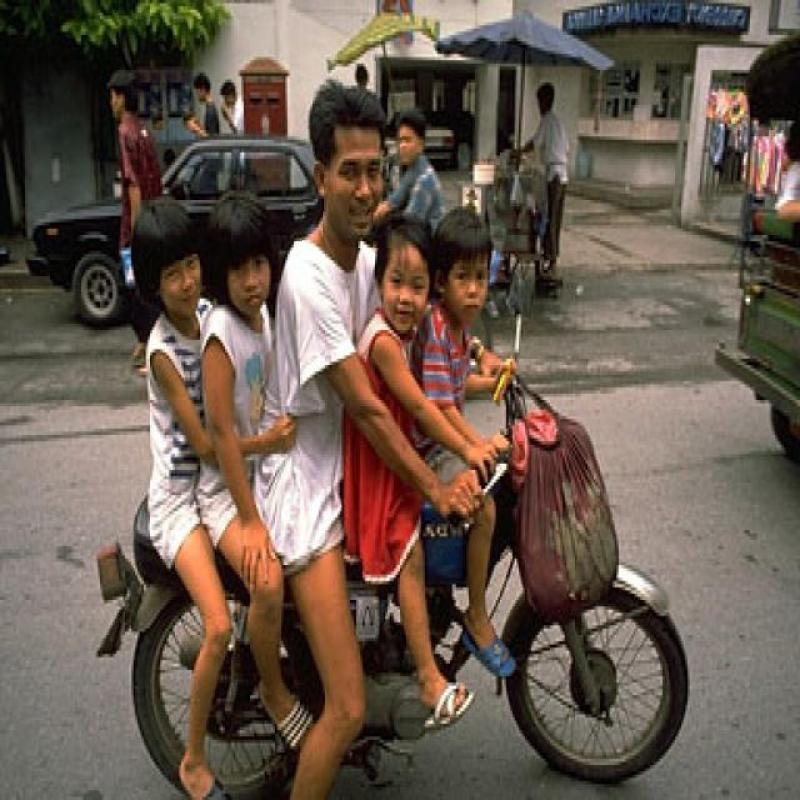nohelmet: (303, 60, 402, 248)
